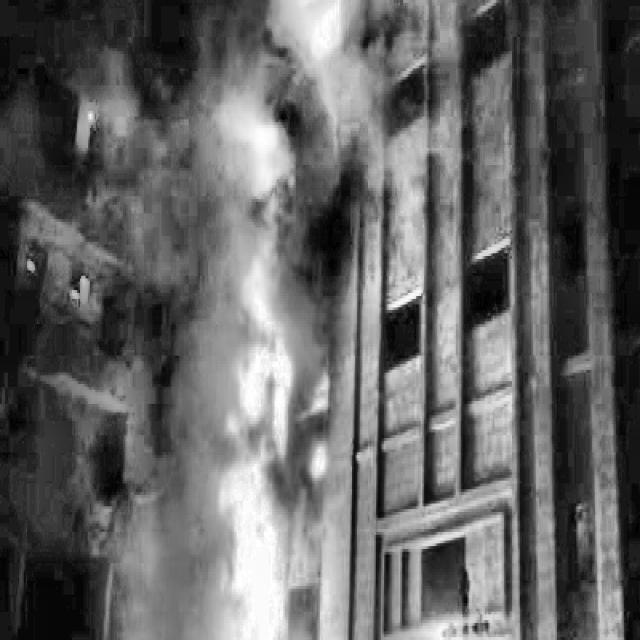fire: (221, 50, 325, 579)
